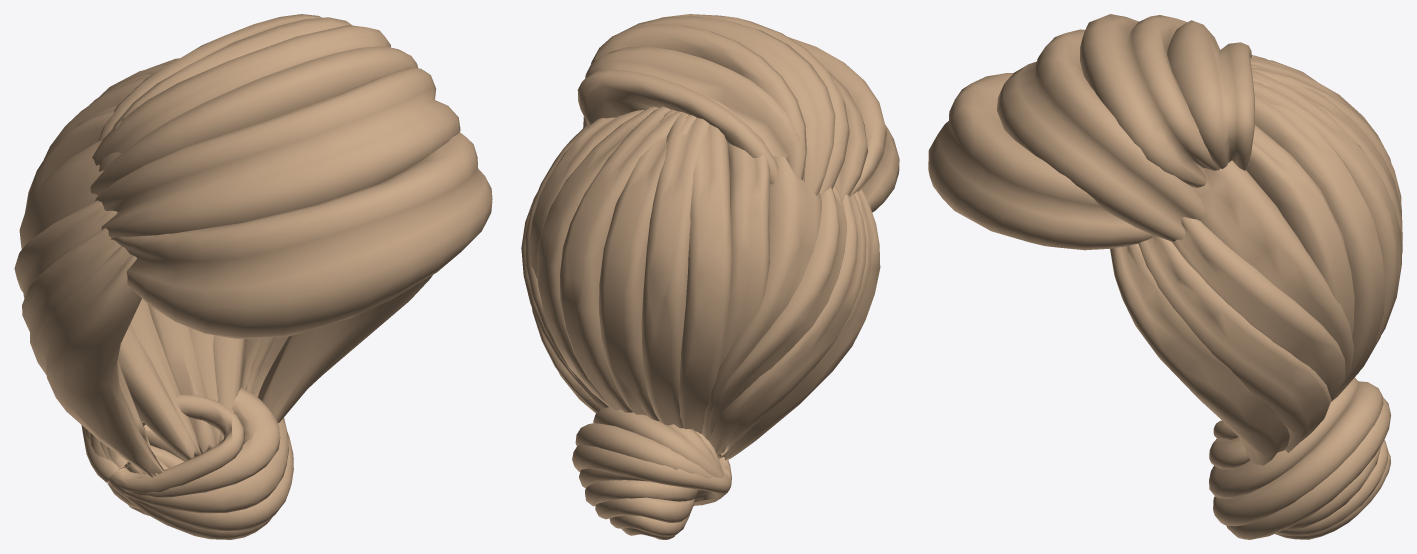
File: hair-6-dd4130fd.glb
3 views of the same model, side by side, from view 1: azimuth 30°, elevation 25°; view 2: azimuth 150°, elevation 25°; view 3: azimuth 270°, elevation 25° (orthographic). The views are drawn at different scales.
Visible parts, largest first — view 1: Geo_White_Older_Female_Hair_6.001; view 2: Geo_White_Older_Female_Hair_6.001; view 3: Geo_White_Older_Female_Hair_6.001.
Boxes of the visible parts, <box> form: Geo_White_Older_Female_Hair_6.001: <box>14,14,492,539</box>; Geo_White_Older_Female_Hair_6.001: <box>521,14,899,539</box>; Geo_White_Older_Female_Hair_6.001: <box>928,14,1402,539</box>.
Bounding box in the file's own units: 1.58 × 2.16 × 1.86.
